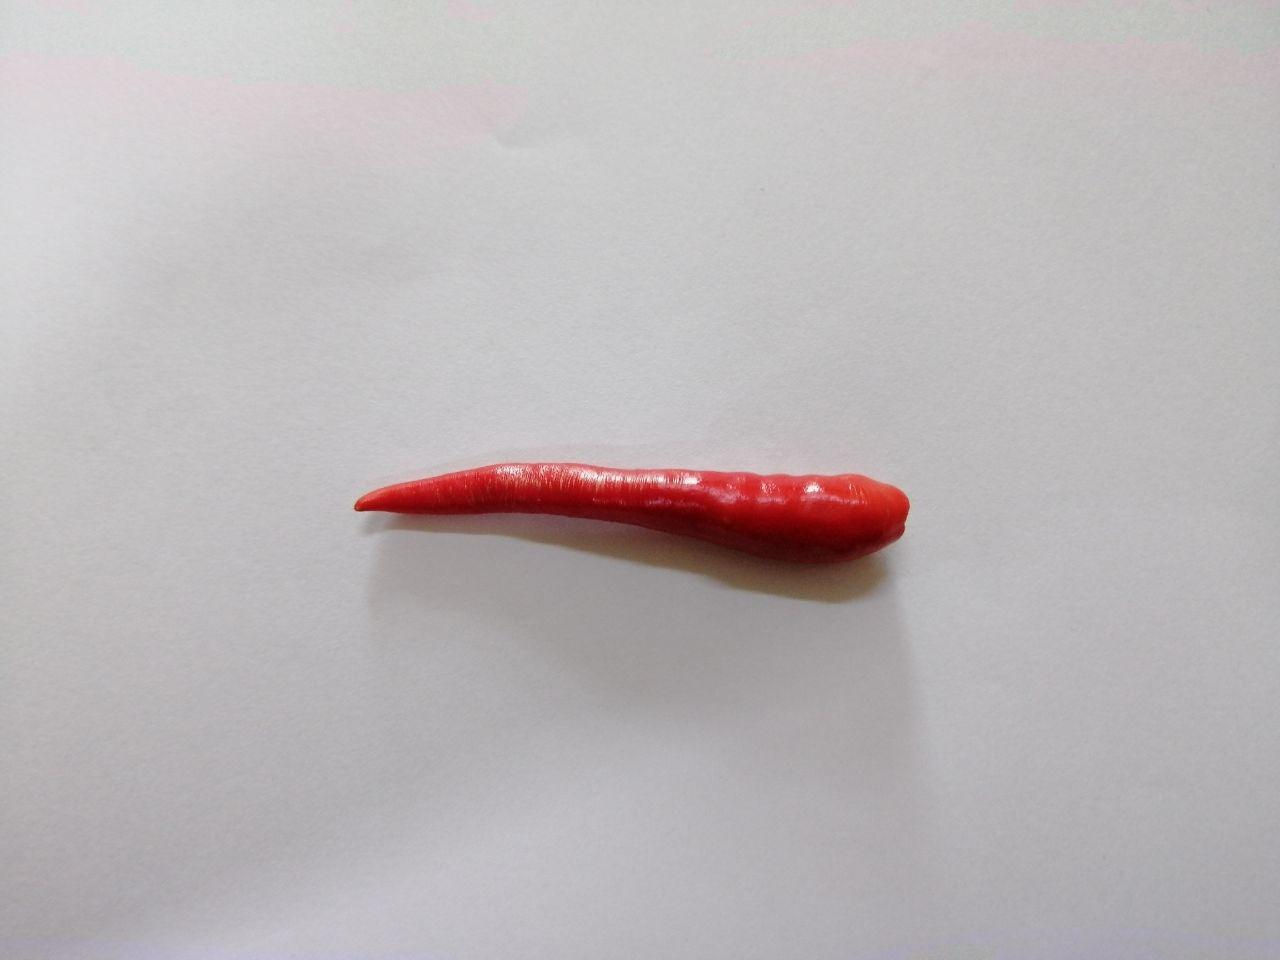lada merah: (350, 440, 930, 596)
